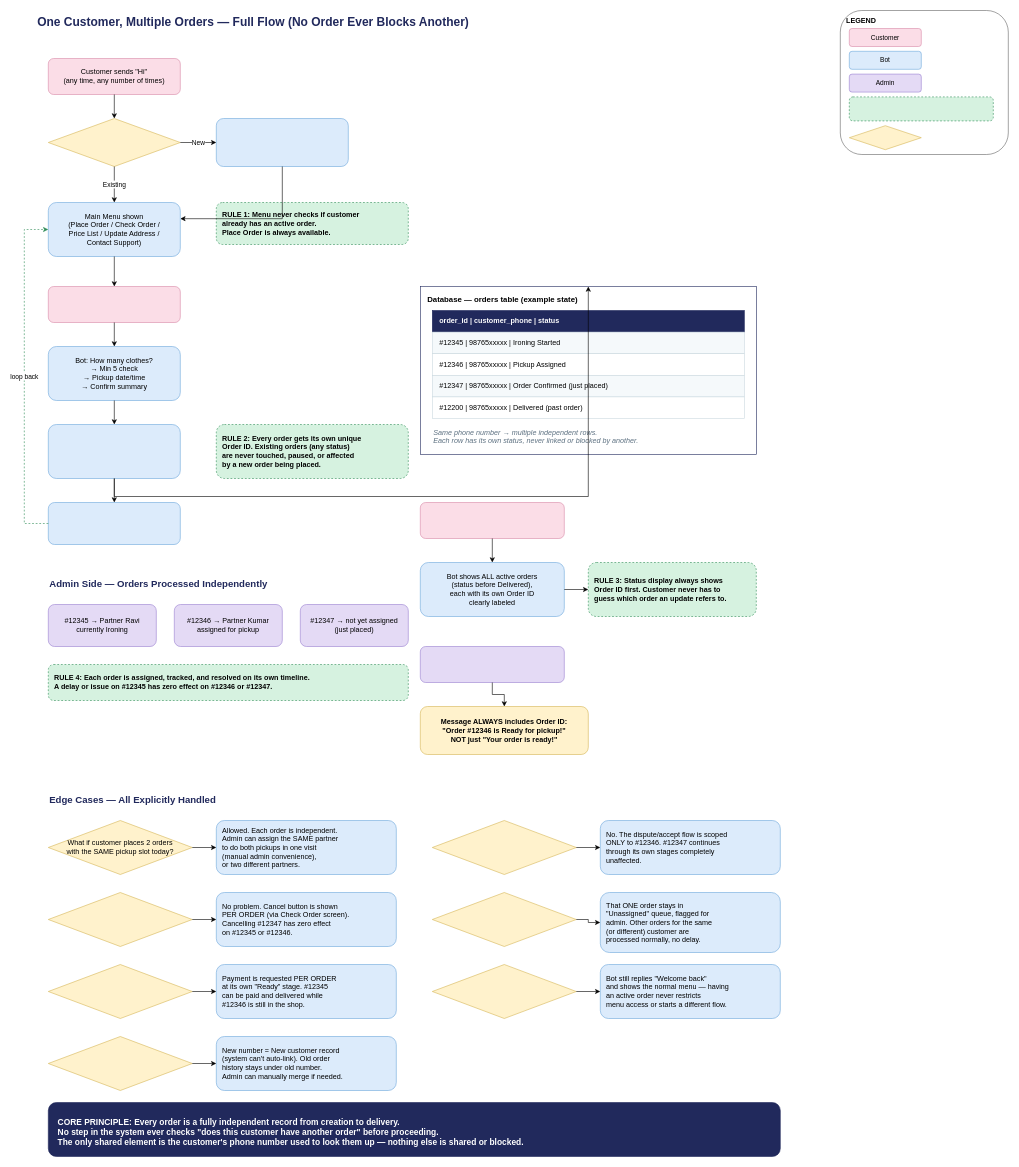
The diagram is 1019 pixels wide and 1167 high, and some of its shapes have lost their labels. Each missing label, with the centre of its shape:
Automatic WhatsApp status push (any stage: Collected, Ready, etc.): pixel 492 664
Bot: Check mobile number in customers table: pixel 114 142
Customer taps "Check Order": pixel 492 520
Customer taps "Place Order": pixel 114 304
Decision: pixel 885 137
NEW number Collect Name, Address, Map, Landmark → store: pixel 282 142
NEW Order created Order ID #(N+1) e.g. #12346, #12347... independent DB row: pixel 114 451
No-Block Rule: pixel 921 108
Returns to Main Menu (can place ANOTHER order immediately, no wait): pixel 114 523
What if a damage issue is found on #12346 — does it pause #12347?: pixel 504 847
What if customer messages "Hi" while an order is already active?: pixel 504 991
What if customer wants to cancel ONE order but keep the other?: pixel 120 919
What if customer's number changes between order #1 and order #2?: pixel 120 1063
What if NO pickup partner is available for one of the orders?: pixel 504 919
What if payment is due on #12345 while #12346 is still being ironed?: pixel 120 991
